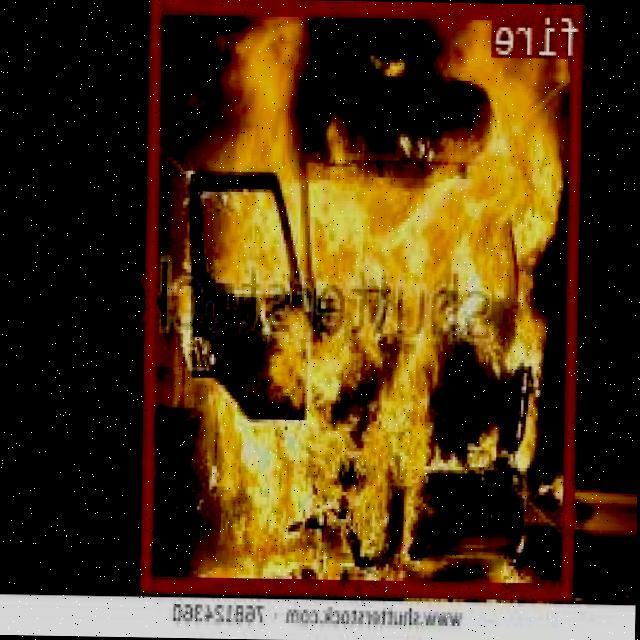fire: (144, 0, 585, 597)
